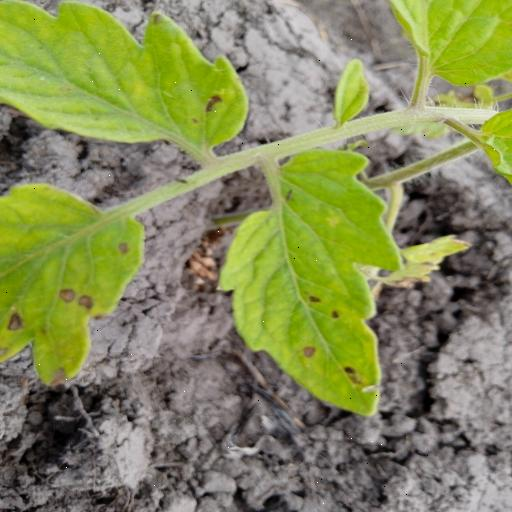Tomato_Brown_Spots: (216, 144, 398, 421), (0, 0, 250, 153), (0, 180, 148, 389)
